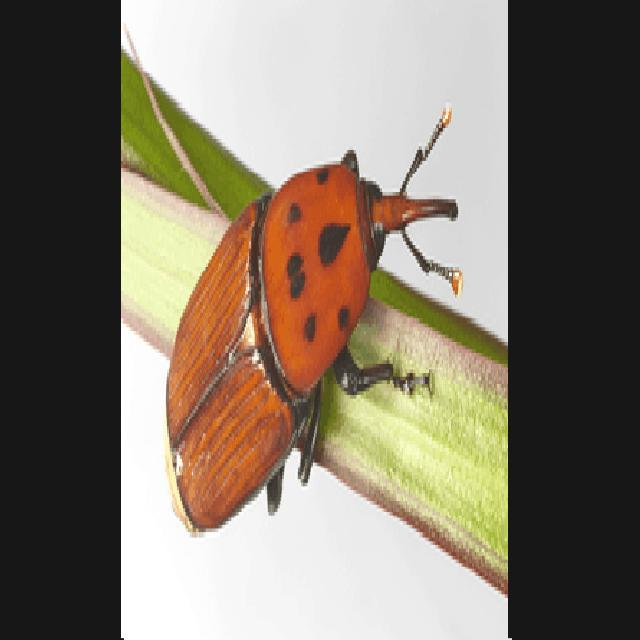Red-palm-weevil: (160, 105, 464, 525)
